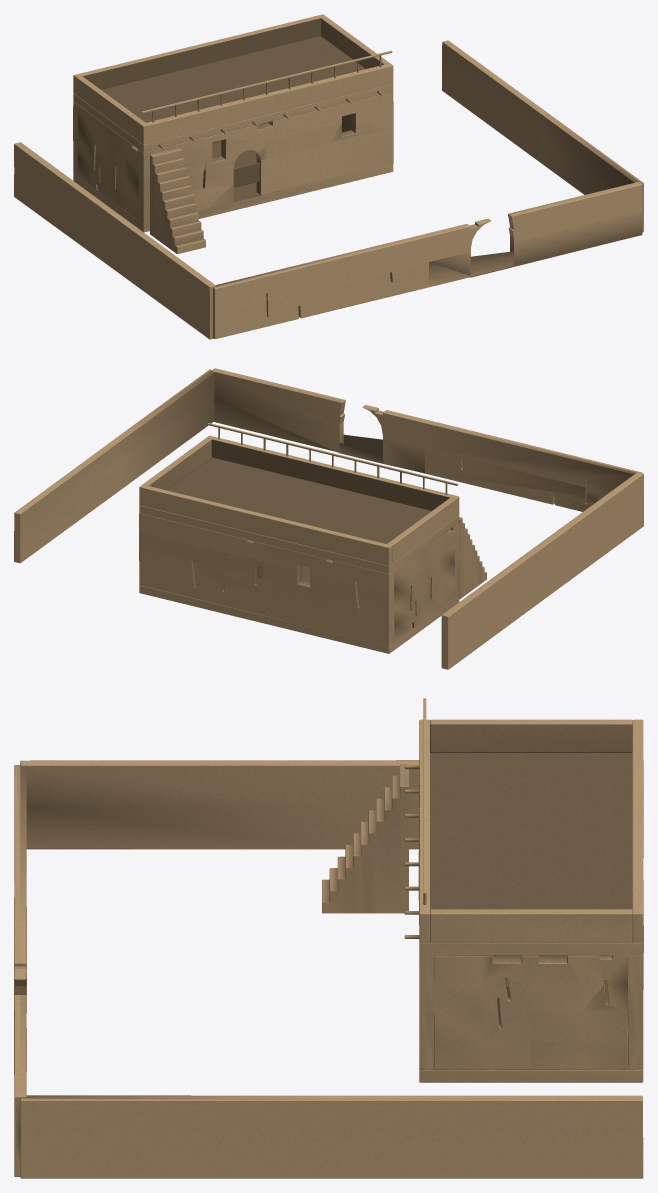
File: court_25.glb
3 views of the same model, one above another, from view 1: azimuth 30°, elevation 25°; view 2: azimuth 150°, elevation 25°; view 3: azimuth 270°, elevation 25° (orthographic). The views are drawn at different scales.
Parts seen in each view (by area): view 1: court; view 2: court; view 3: court.
Boxes of the visible parts, left/top/right/bottom form: court: left=14, top=14, right=643, bottom=339; court: left=14, top=368, right=643, bottom=669; court: left=14, top=698, right=643, bottom=1178.
Size of the model in its own units: 22.36 by 5.95 by 17.64.
1 material, 1 textured.
